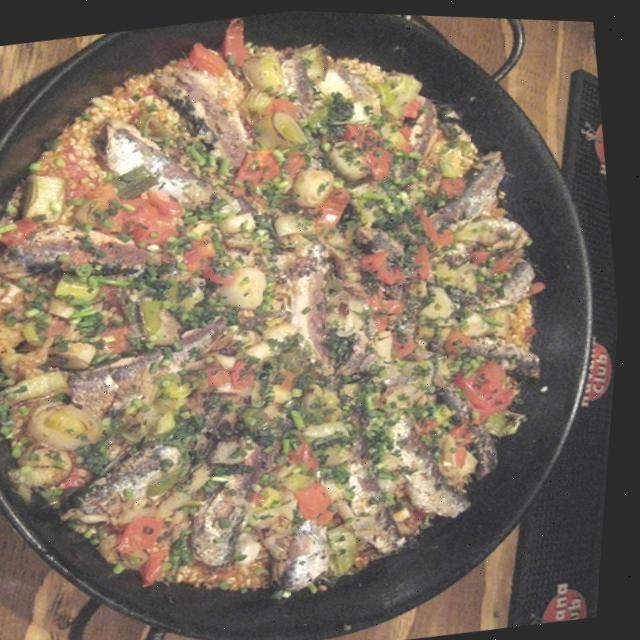熟制海鲜: (515, 15, 597, 53)
